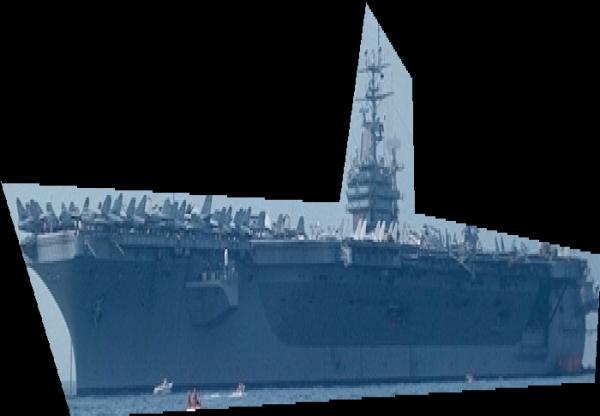Aircraft Carrier: (1, 1, 600, 416)
